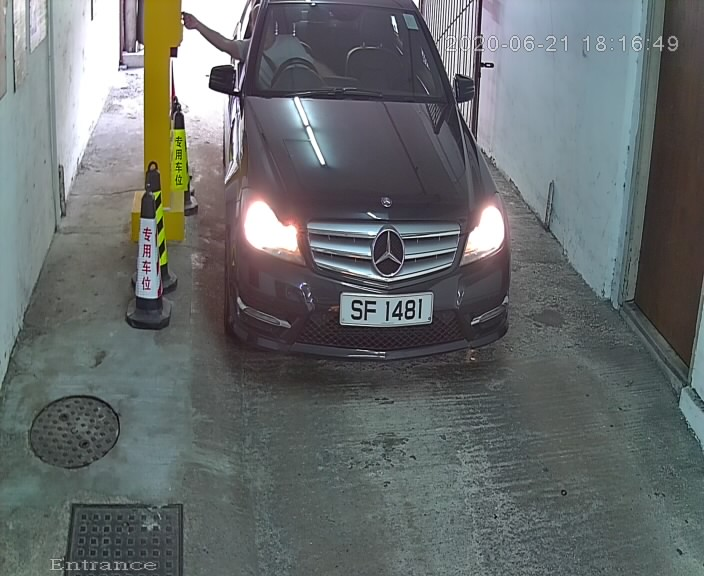privatecar: (196, 1, 531, 383)
